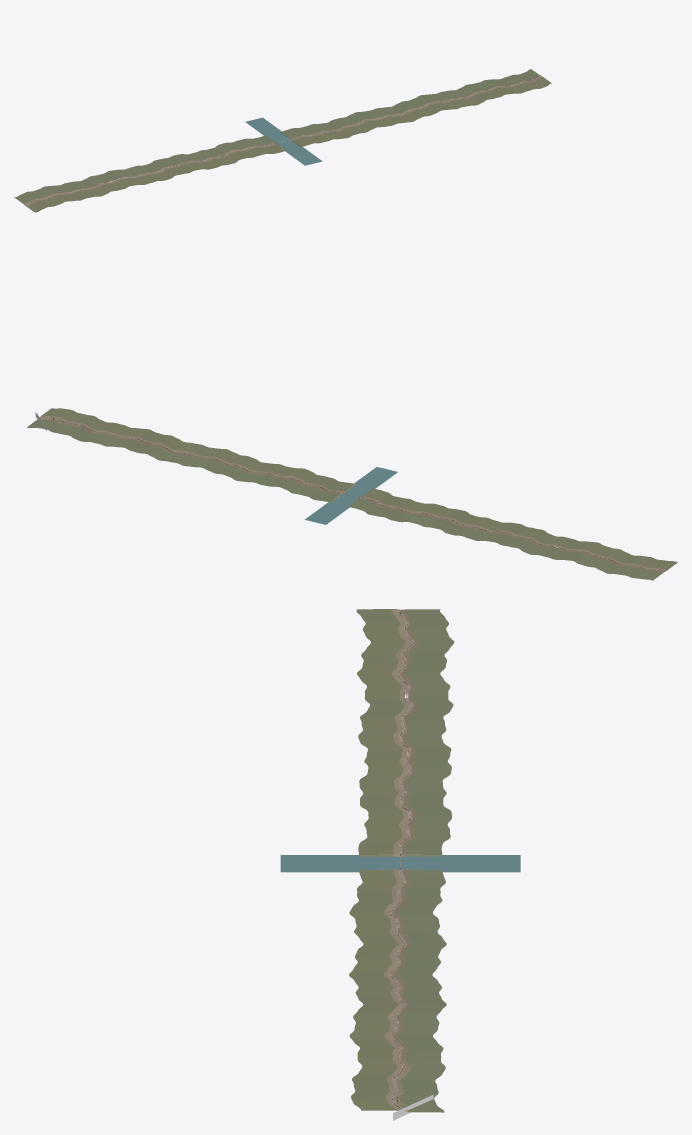
File: prague.glb
3 renders of one model, top to bottom at view 1: azimuth 30°, elevation 25°; view 2: azimuth 150°, elevation 25°; view 3: azimuth 270°, elevation 25°, orthographic. The views are drawn at different scales.
Visible parts, largest first — view 1: Land_002, Land_017, Land_015, Land_004, Land_009, Land_000, Land_013, Land_010, Land_006, Land_019, Land_012, Land_007 (+13 smaller); view 2: Land_017, Land_002, Land_021, Land_015, Land_004, Land_009, Land_020, Land_000, Land_013, Land_006, Land_019, Land_010 (+11 smaller); view 3: Land_002, Land_009, Land_007, Land_020, Land_012, Land_013, Land_000, Land_004, Land_015, Land_005, Land_014, Land_018 (+14 smaller).
Boxes of the visible parts, left/top/right/bottom form: Land_002: left=61, top=181, right=105, bottom=200; Land_017: left=401, top=94, right=440, bottom=116; Land_015: left=354, top=107, right=396, bottom=127; Land_004: left=103, top=169, right=149, bottom=188; Land_009: left=212, top=140, right=259, bottom=158; Land_000: left=14, top=191, right=57, bottom=212; Land_013: left=310, top=119, right=354, bottom=139; Land_010: left=240, top=136, right=284, bottom=155; Land_006: left=148, top=158, right=194, bottom=177; Land_019: left=451, top=84, right=487, bottom=106; Land_012: left=286, top=125, right=331, bottom=144; Land_007: left=168, top=153, right=216, bottom=170; Land_017: left=152, top=442, right=207, bottom=465; Land_002: left=573, top=542, right=624, bottom=567; Land_021: left=46, top=412, right=102, bottom=436; Land_015: left=209, top=455, right=261, bottom=481; Land_004: left=516, top=529, right=565, bottom=555; Land_009: left=375, top=497, right=422, bottom=522; Land_020: left=72, top=421, right=128, bottom=443; Land_000: left=626, top=556, right=677, bottom=580; Land_013: left=268, top=467, right=318, bottom=493; Land_006: left=463, top=516, right=507, bottom=541; Land_019: left=99, top=427, right=156, bottom=449; Land_010: left=350, top=489, right=399, bottom=515; Land_002: left=357, top=650, right=446, bottom=678; Land_009: left=364, top=803, right=451, bottom=831; Land_007: left=359, top=760, right=451, bottom=787; Land_020: left=357, top=1049, right=445, bottom=1078; Land_012: left=357, top=875, right=445, bottom=899; Land_013: left=349, top=898, right=442, bottom=921; Land_000: left=356, top=609, right=448, bottom=633; Land_004: left=360, top=697, right=453, bottom=721; Land_015: left=355, top=942, right=446, bottom=968; Land_005: left=358, top=719, right=446, bottom=745; Land_014: left=354, top=920, right=445, bottom=943; Land_018: left=353, top=1004, right=440, bottom=1031.
Bounding box in the file's own units: 24136 × 3364 × 6115.
